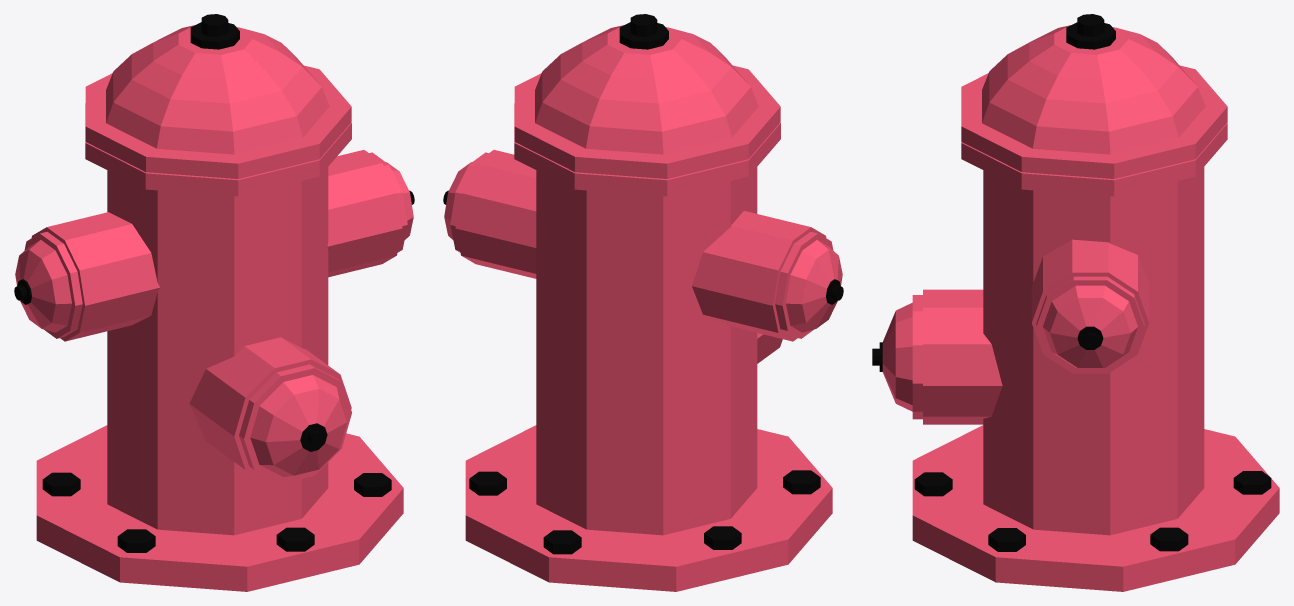
File: ToyObject_172.fbx
3 renders of one model, left to right at view 1: azimuth 30°, elevation 25°; view 2: azimuth 150°, elevation 25°; view 3: azimuth 270°, elevation 25°, orthographic.
Parts seen in each view (by area): view 1: Object.029; view 2: Object.029; view 3: Object.029.
Boxes of the visible parts, x1=… form: Object.029: x1=14, y1=14, x2=414, y2=591; Object.029: x1=443, y1=14, x2=843, y2=591; Object.029: x1=872, y1=14, x2=1279, y2=591.
Size of the model in its own units: 0.1509 by 0.1809 by 0.1354.
